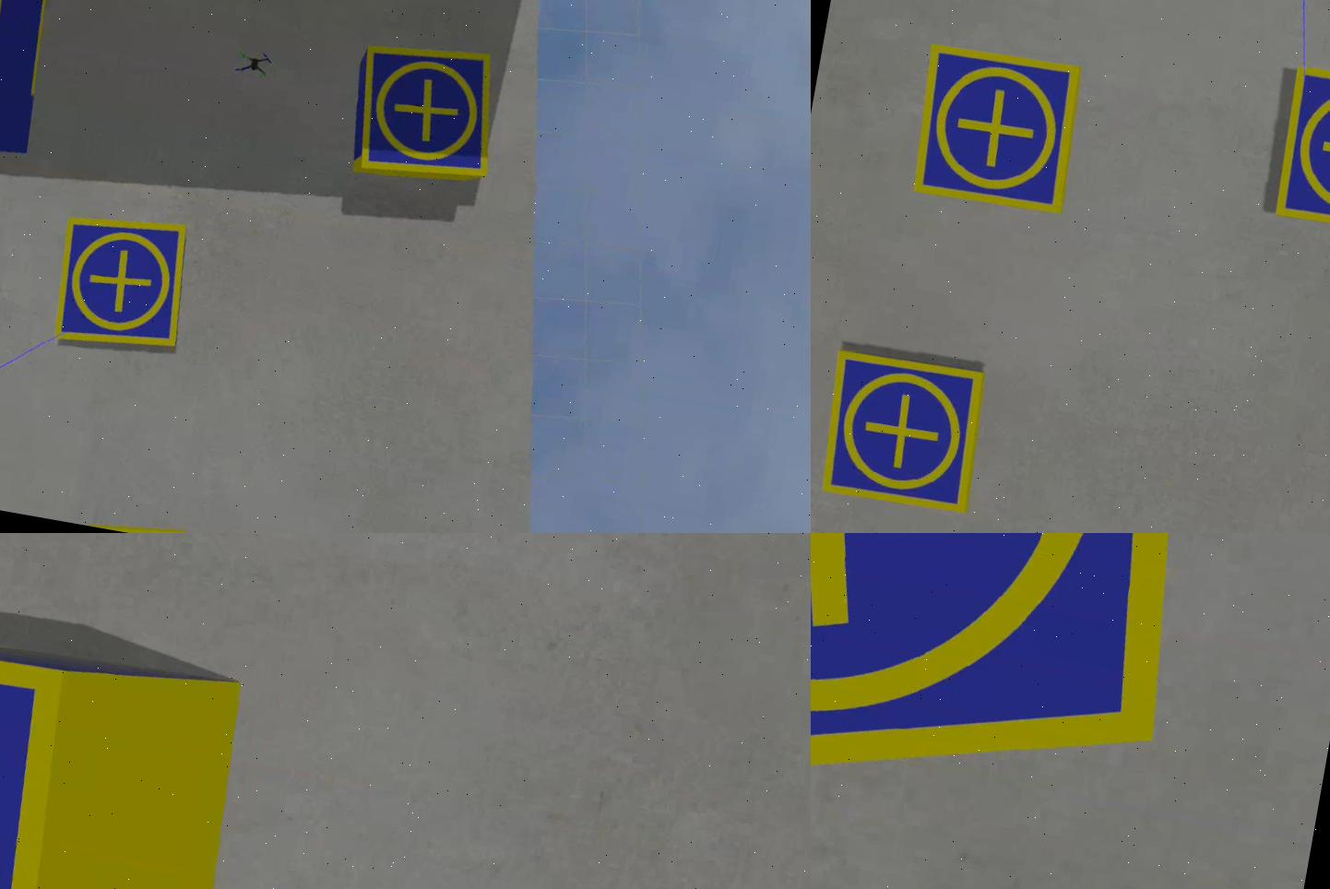small_base: (812, 534, 1251, 889), (908, 39, 1091, 220), (813, 344, 990, 516), (344, 33, 507, 192), (46, 204, 199, 361), (1, 646, 86, 889), (1270, 63, 1330, 242)
